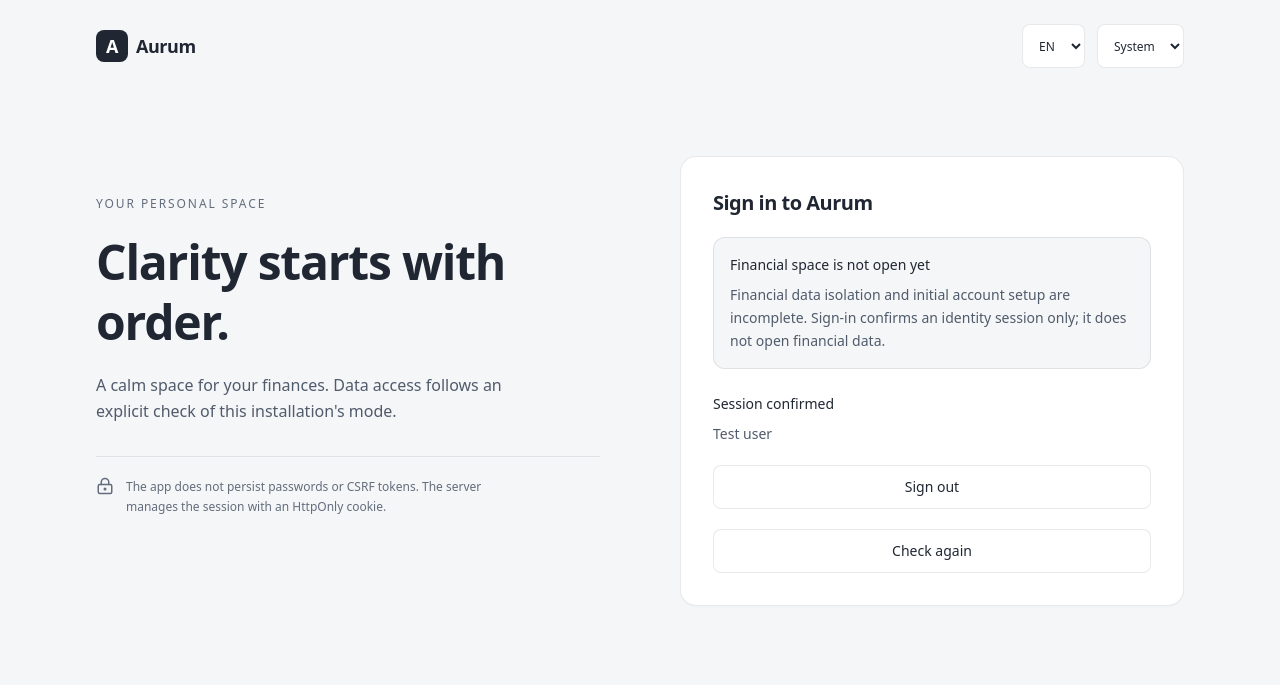
Test: a confirmed session can be rechecked and expiry cannot open finance
This screenshot has width=1280, height=685.
Click the button "Check again" at (932, 551), box [713, 529, 1151, 573]
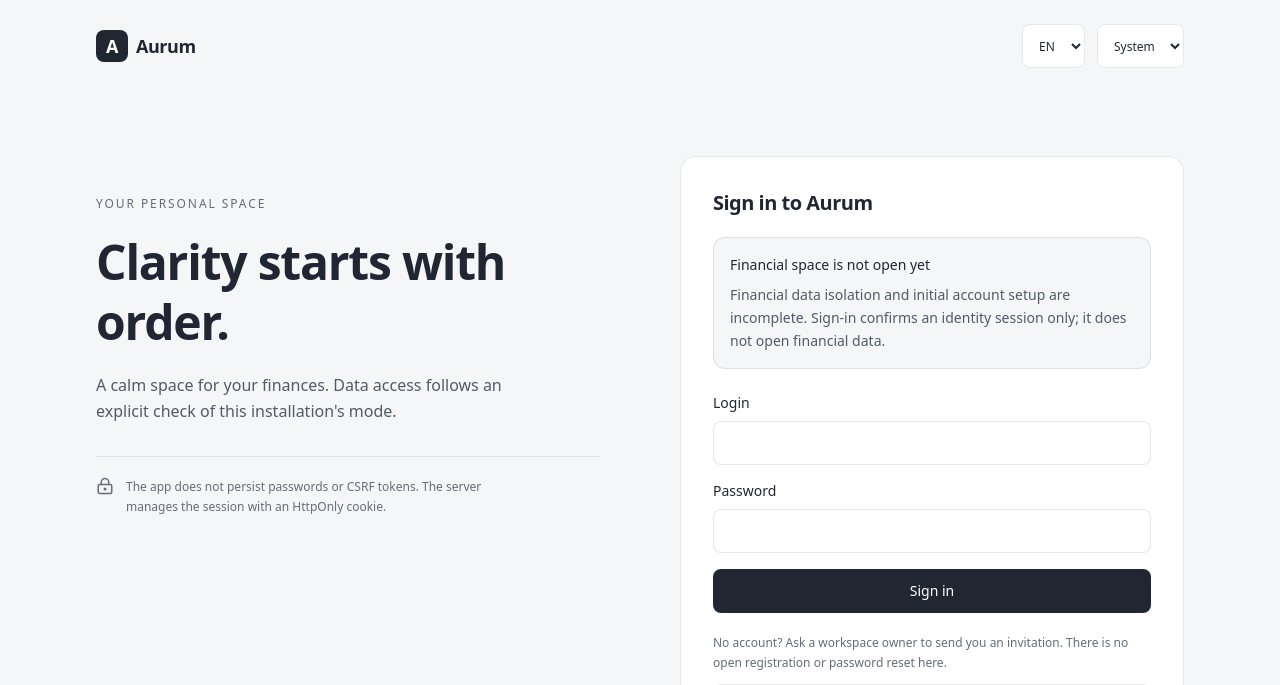
Expected: the text "Session confirmed" is gone
